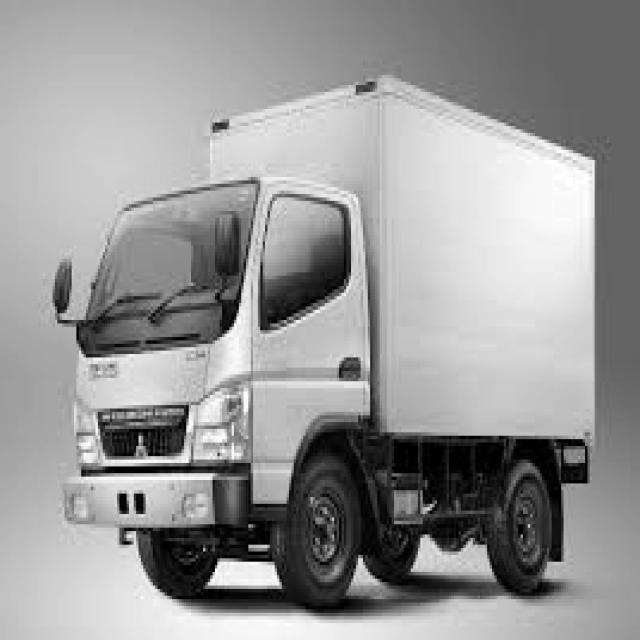truck: (39, 150, 390, 614)
